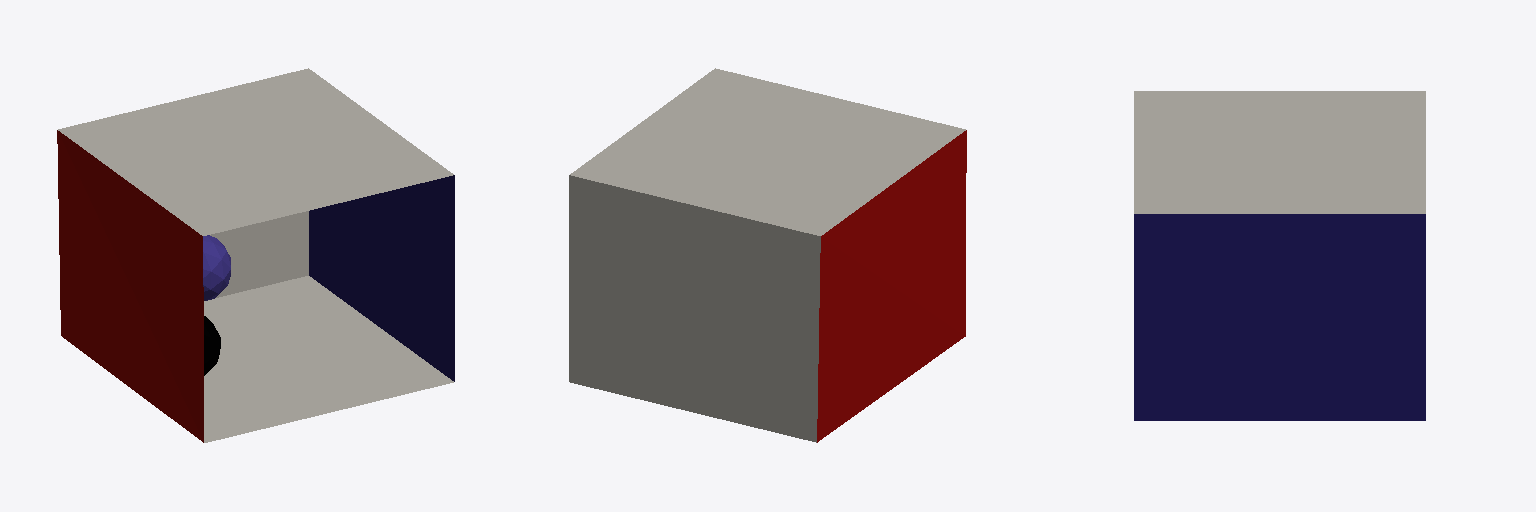
Rendered from CornellBox-Sphere-844.obj.
The picture shows the model from 3 angles: view 1: azimuth 30°, elevation 25°; view 2: azimuth 150°, elevation 25°; view 3: azimuth 270°, elevation 25°; orthographic projection.
Parts seen in each view (by area): view 1: ceiling, leftWall, floor, rightWall, backWall, leftSphere, rightSphere; view 2: backWall, ceiling, leftWall; view 3: rightWall, ceiling.
Part boxes in pixels (x1,y1,x2,y2): ceiling: (58, 68, 453, 235); leftWall: (57, 130, 203, 442); floor: (204, 276, 453, 442); rightWall: (309, 175, 454, 381); backWall: (210, 211, 308, 297); leftSphere: (203, 235, 230, 300); rightSphere: (204, 316, 220, 375); backWall: (569, 175, 820, 442); ceiling: (570, 68, 965, 235); leftWall: (817, 130, 966, 442); rightWall: (1134, 214, 1425, 420); ceiling: (1134, 91, 1425, 213).
Bounding box in the file's own units: 2.02 × 1.59 × 2.03.